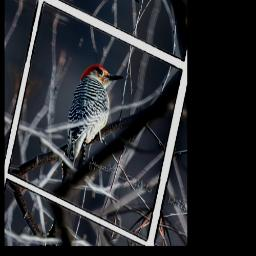Woodpecker: (57, 48, 128, 182)
